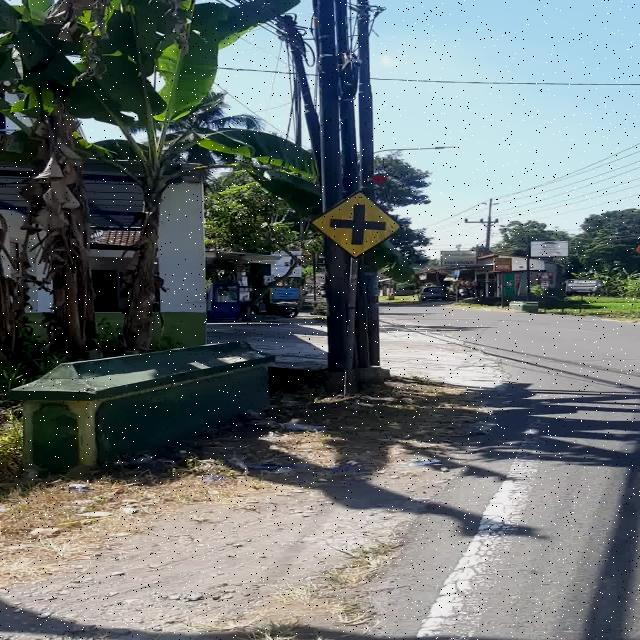Persimpangan 4: (309, 190, 401, 259)
